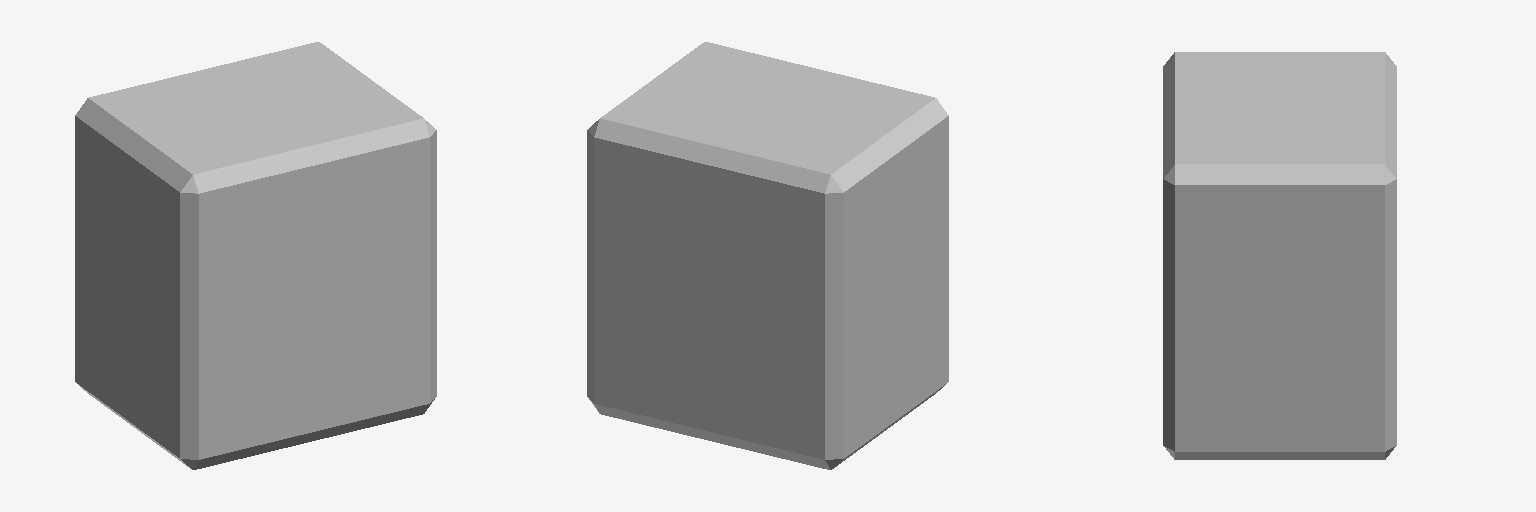
The model's file is Blank Rock.obj.
3 views of the same model, side by side, from view 1: azimuth 30°, elevation 25°; view 2: azimuth 150°, elevation 25°; view 3: azimuth 270°, elevation 25° (orthographic).
Parts seen in each view (by area): view 1: Cube.002; view 2: Cube.002; view 3: Cube.002.
Boxes of the visible parts, x1=… form: Cube.002: x1=75, y1=42, x2=436, y2=469; Cube.002: x1=587, y1=42, x2=948, y2=469; Cube.002: x1=1163, y1=52, x2=1396, y2=459.
Bounding box in the file's own units: 1.83 × 2.02 × 1.44.